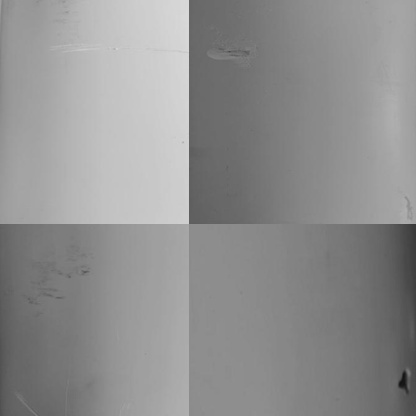kongdong: (397, 367, 413, 396)
sunshang: (205, 43, 253, 63)
